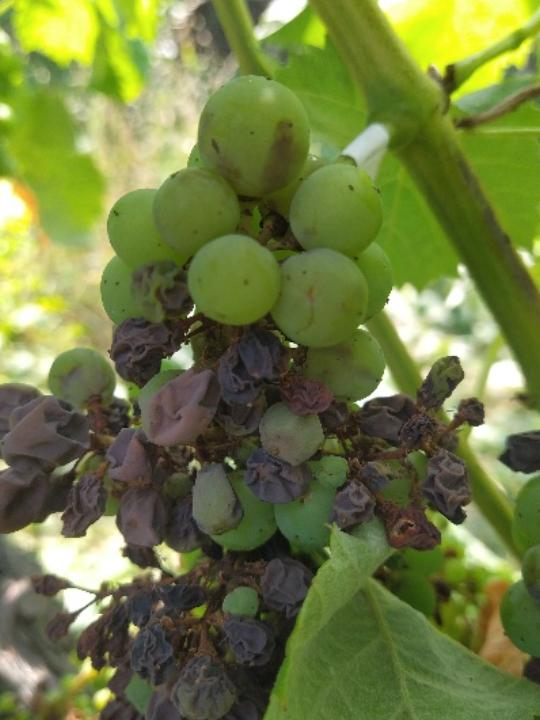grape: (0, 68, 486, 720)
